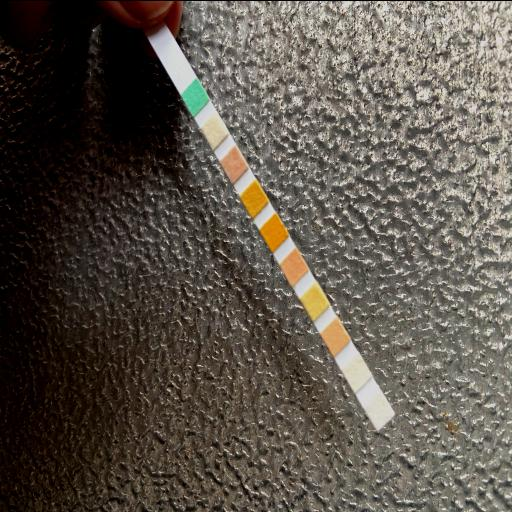Bilirubin: (208, 119, 221, 141)
Blood: (266, 220, 280, 242)
Glucose: (188, 86, 202, 108)
Ketone: (228, 152, 240, 176)
Leukocytes: (374, 396, 385, 424)
Nitrite: (351, 358, 363, 384)
Protein: (308, 288, 320, 312)
SpGravity: (248, 186, 260, 210)
Urobilinogen: (328, 325, 342, 347)
pH: (286, 256, 302, 276)
strip: (153, 31, 394, 431)
